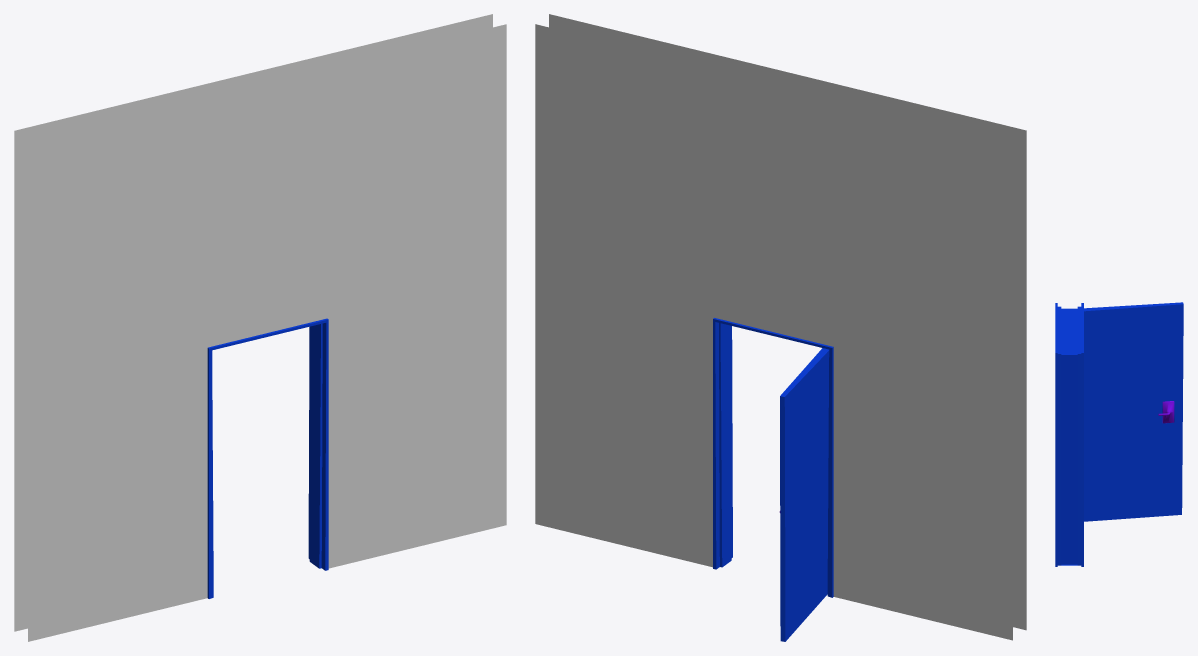
The model's file is SM_WallOffice_DoorOpen.fbx.
3 renders of one model, left to right at view 1: azimuth 30°, elevation 25°; view 2: azimuth 150°, elevation 25°; view 3: azimuth 270°, elevation 25°, orthographic. The views are drawn at different scales.
Parts seen in each view (by area): view 1: WallOffice_DoorOpen; view 2: WallOffice_DoorOpen; view 3: WallOffice_DoorOpen.
Part boxes in pixels (<box>): WallOffice_DoorOpen: <box>14,14,506,641</box>; WallOffice_DoorOpen: <box>535,14,1026,641</box>; WallOffice_DoorOpen: <box>1055,302,1183,566</box>.
Bounding box in the file's own units: 400 × 400 × 109.
